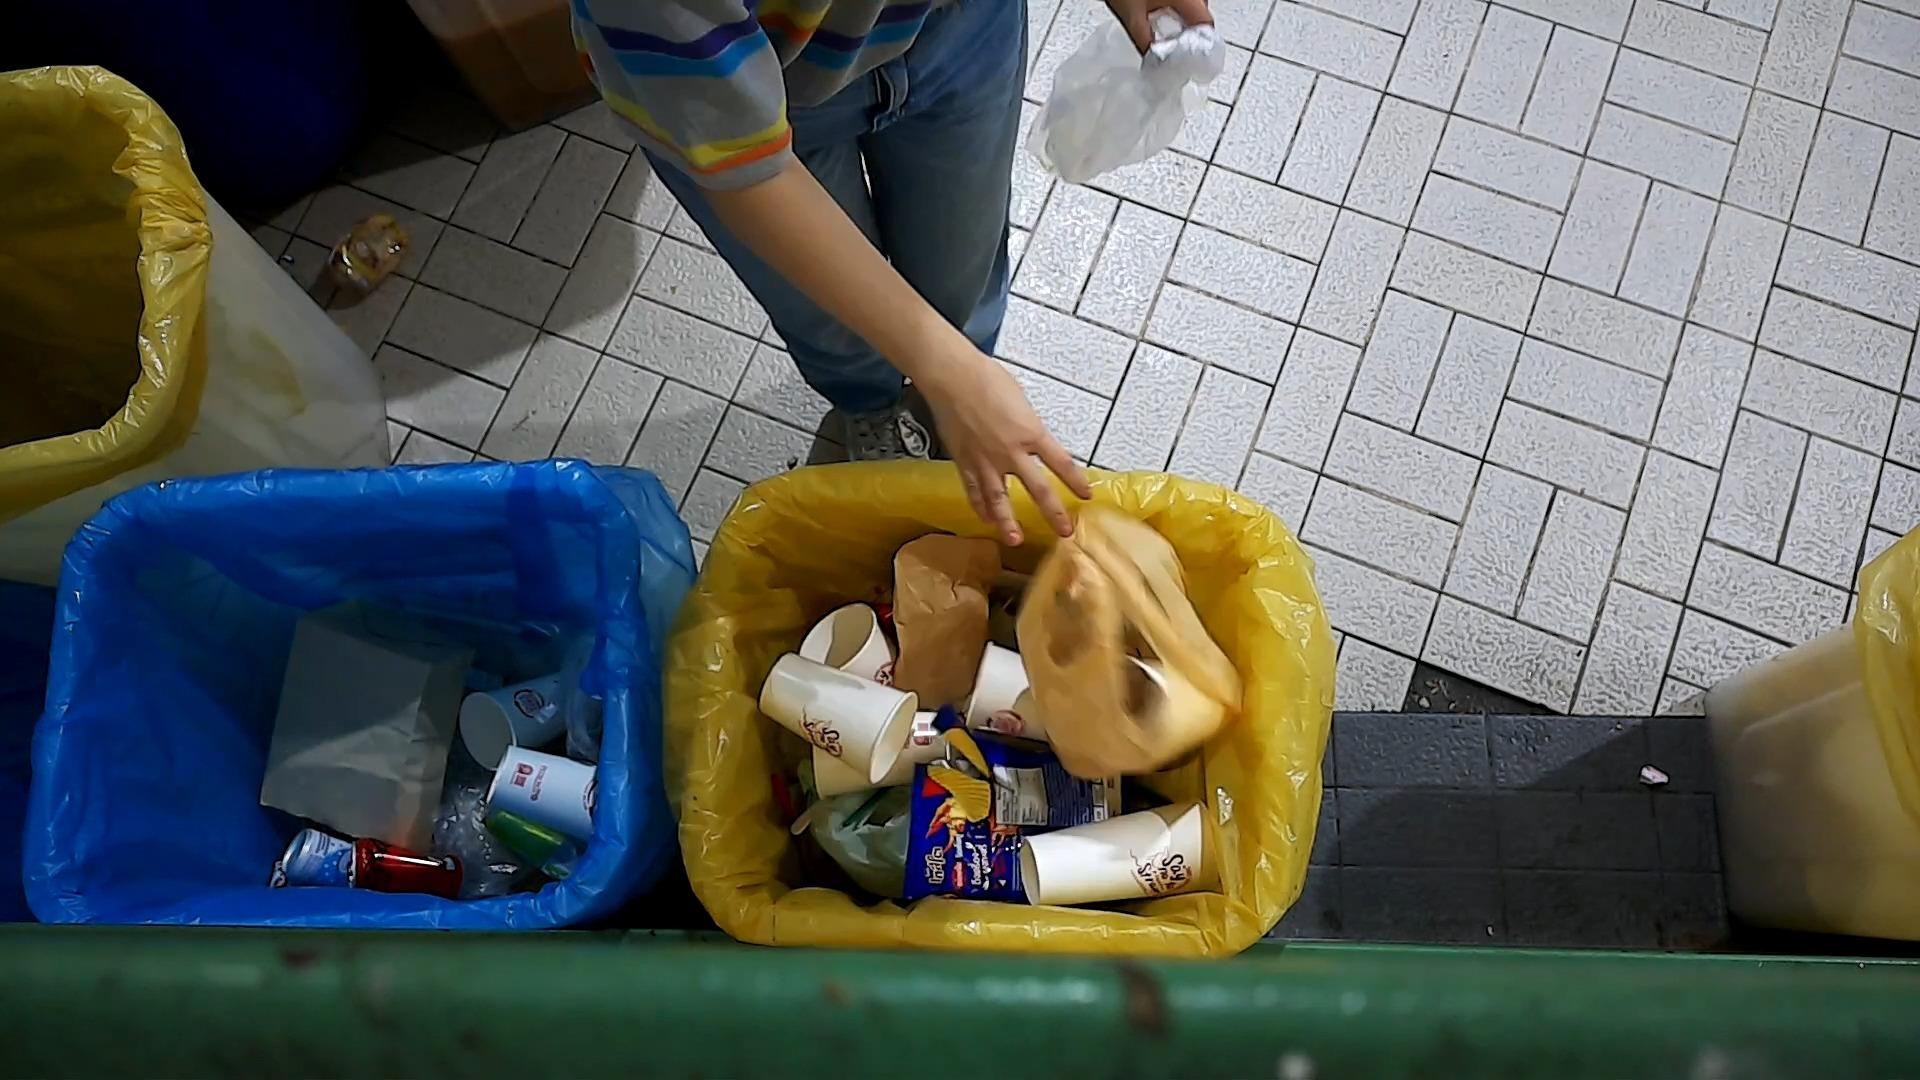can: (344, 832, 467, 903), (480, 804, 588, 884), (272, 825, 356, 887)
filled plastic bag: (1011, 491, 1251, 789)
paper bag: (255, 587, 477, 857), (887, 531, 1005, 708)
plastic bag: (1021, 12, 1237, 193)
snack packaging: (901, 704, 1133, 902)
zero waste cup: (1014, 791, 1225, 910), (754, 646, 919, 790), (456, 665, 574, 777), (481, 741, 603, 845), (960, 634, 1058, 746), (796, 599, 901, 696)
